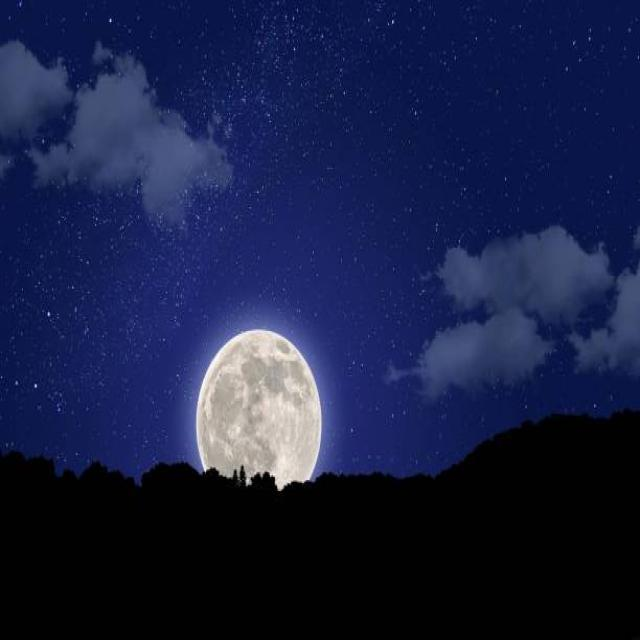moon: (196, 330, 322, 509)
